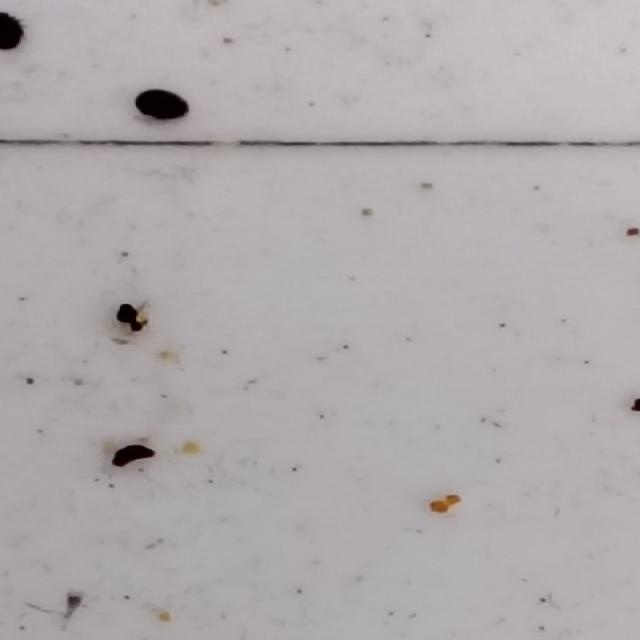varroa: (135, 88, 193, 122), (1, 13, 33, 55)
